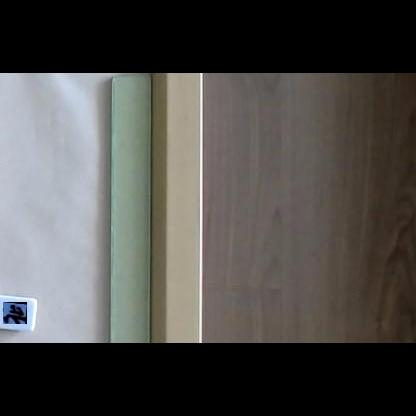4z: (3, 302, 27, 324)
